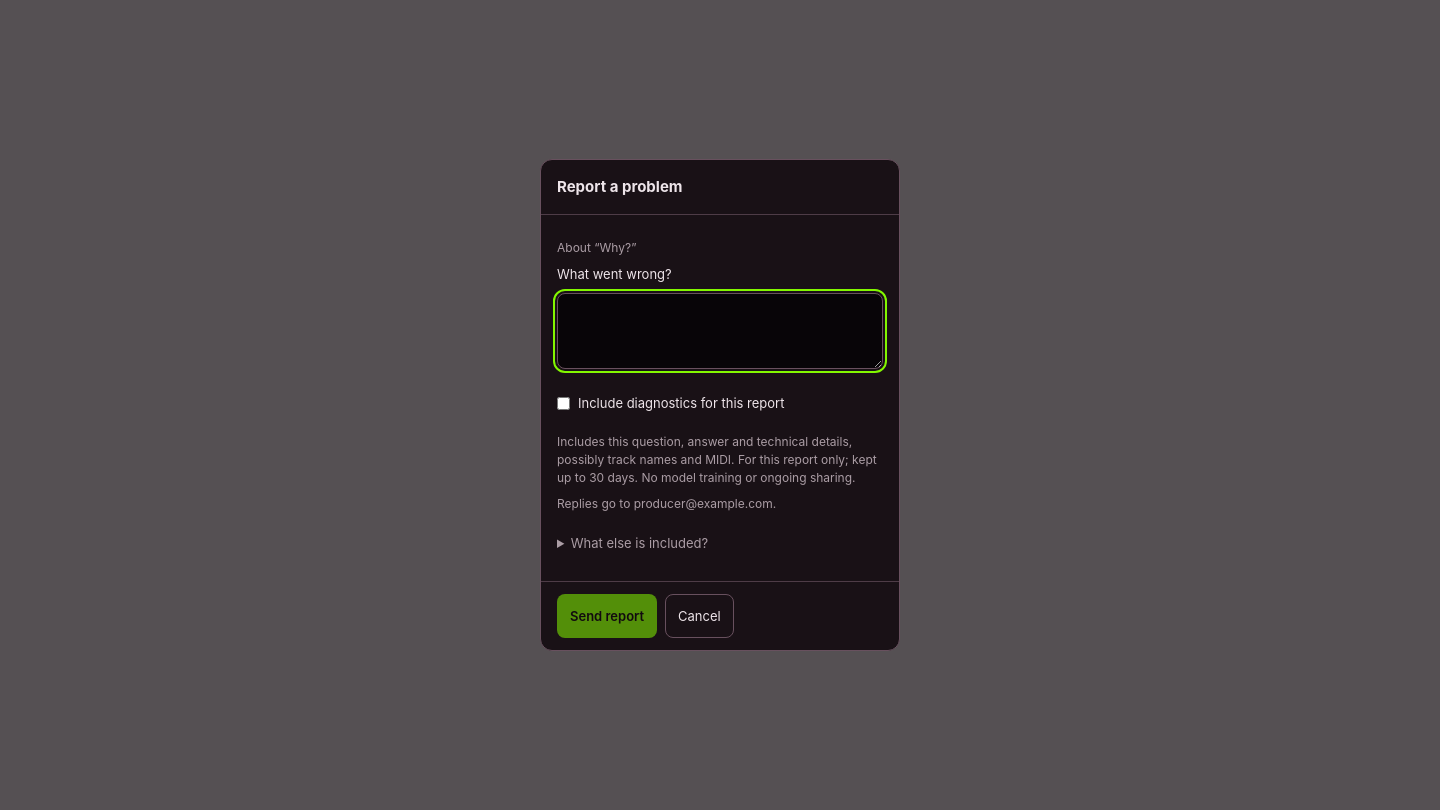
Test case: previews limitations only after consent and prevents duplicate sends
This screenshot has width=1440, height=810.
Click the checkbox labelled "Include diagnostics for this report" at [564, 403], box x1=557 y1=397 x2=570 y2=410
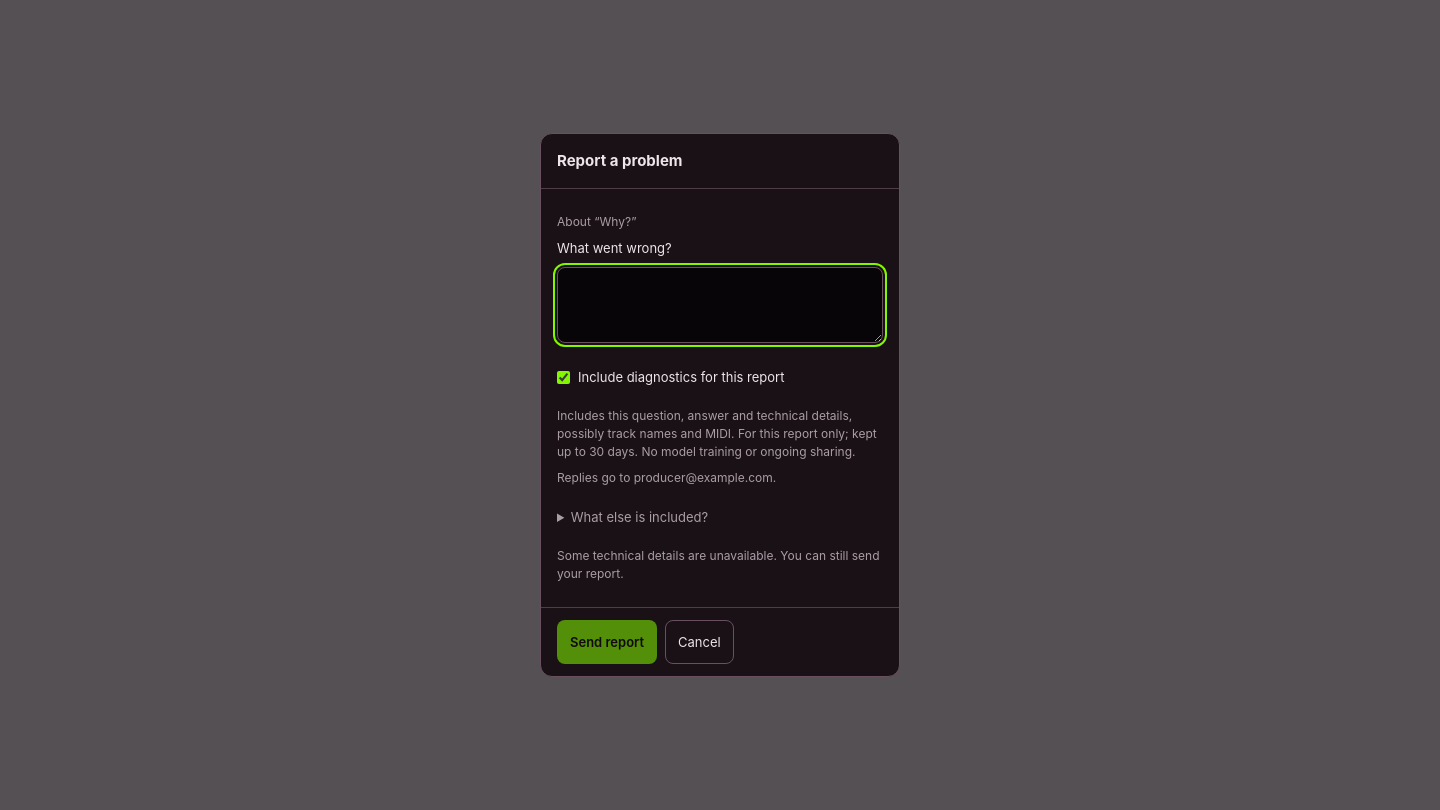
expect the text "Some technical details are unavailable" is shown: met, box x1=557 y1=548 x2=880 y2=581
Type "Failure" into the text box labelled "What went wrong?" at [720, 305], box x1=557 y1=267 x2=883 y2=343
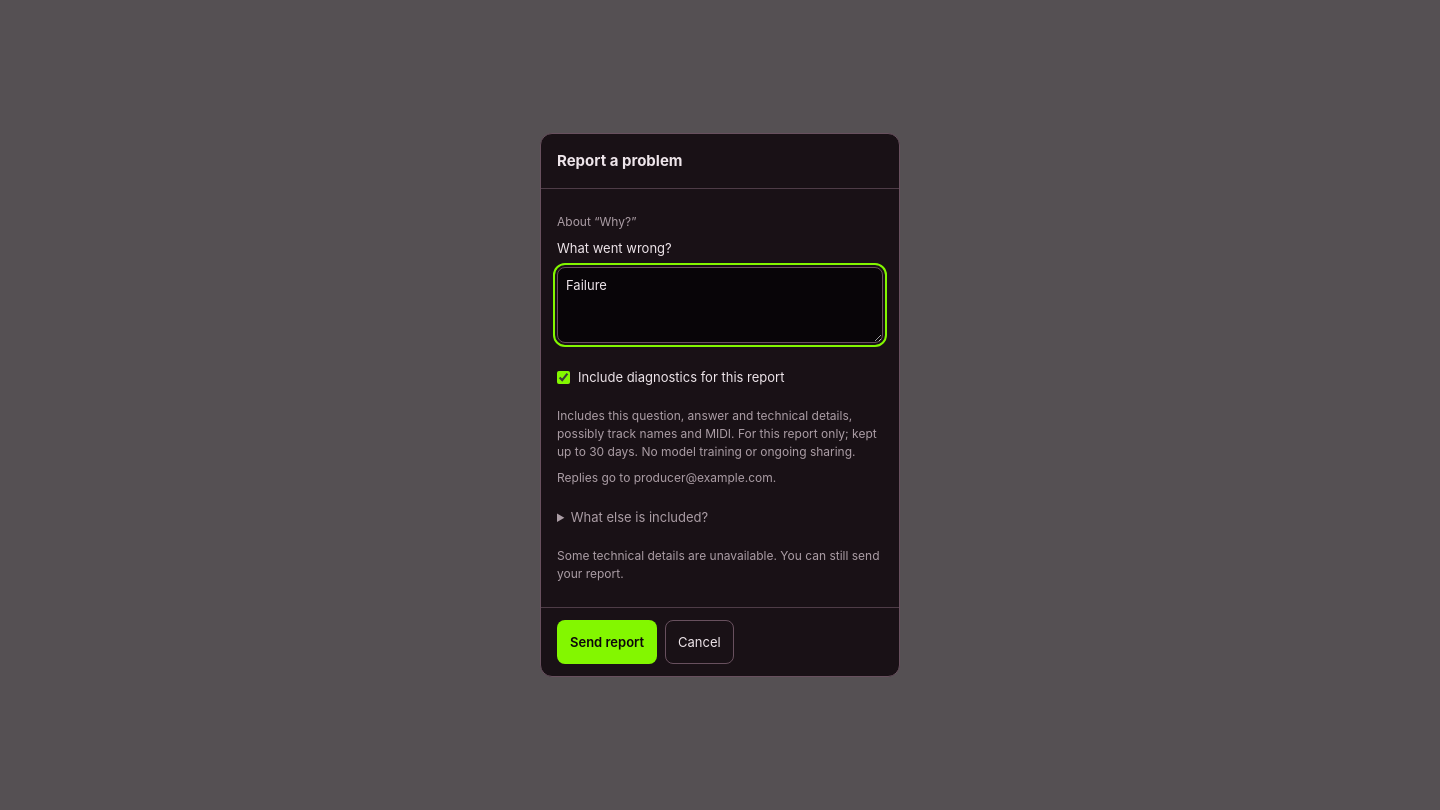
Click the button "Send report" at [607, 642], box x1=557 y1=620 x2=657 y2=664
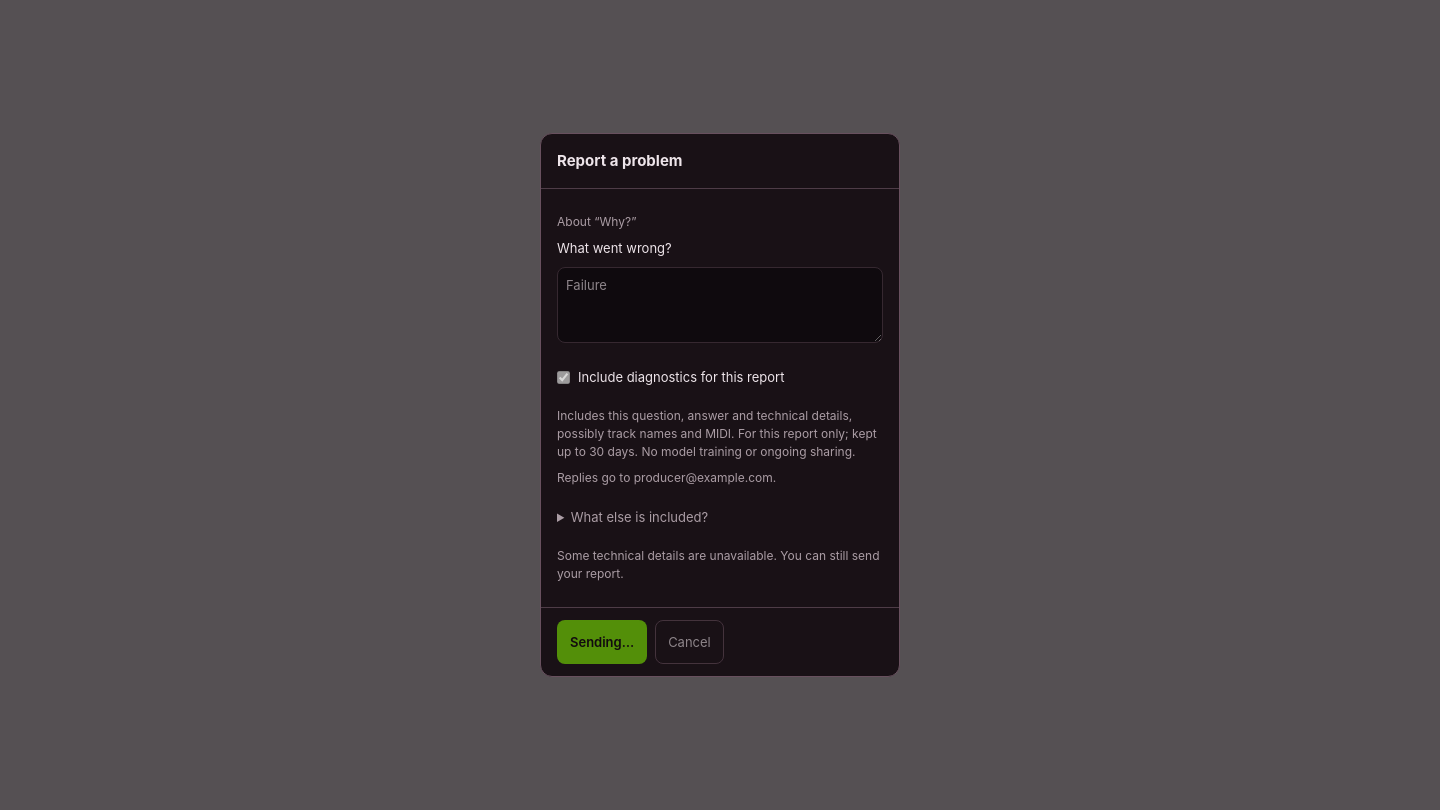
Click the button "Sending…" at [602, 642], box x1=557 y1=620 x2=647 y2=664
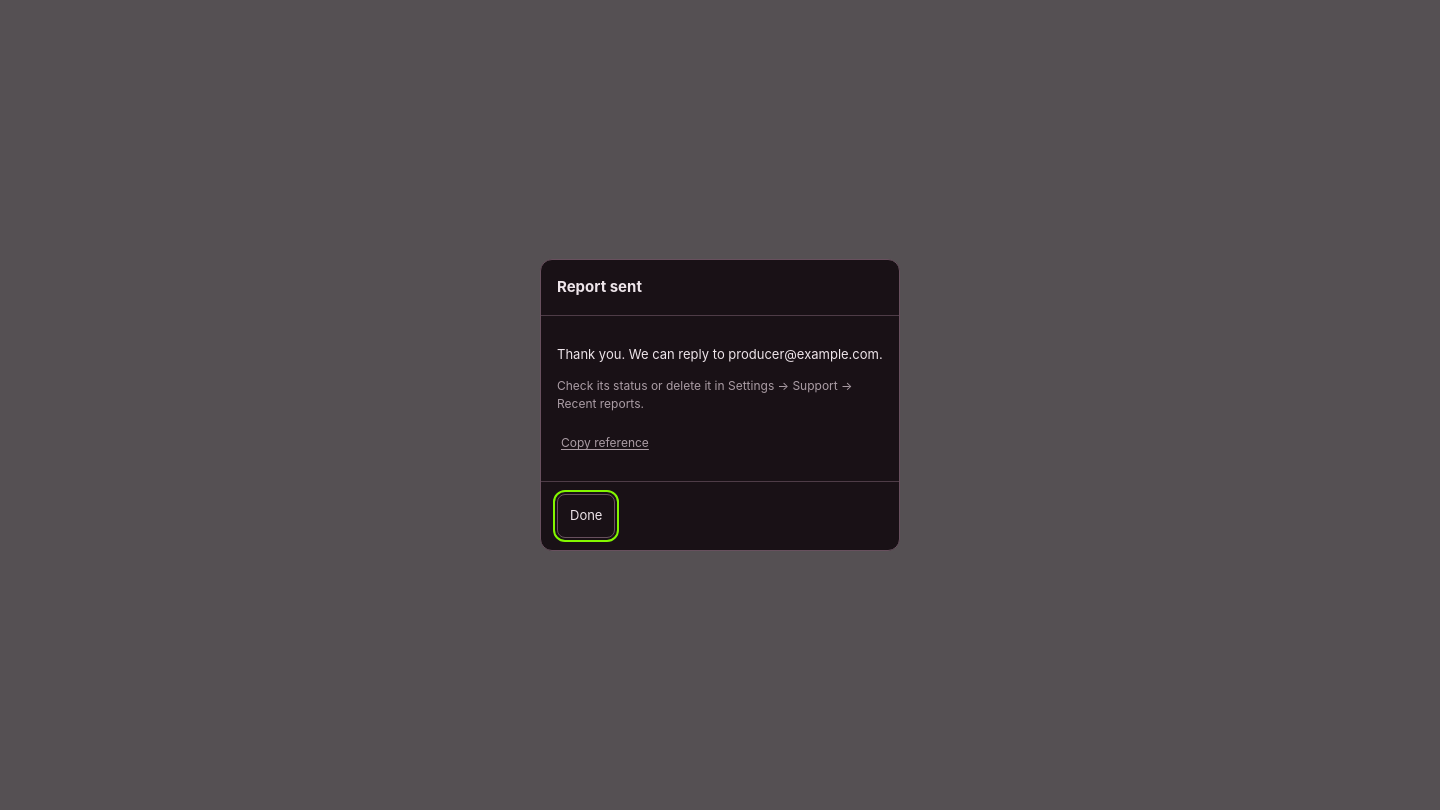
expect the heading "Report sent" is shown: met, box x1=541 y1=260 x2=899 y2=316
